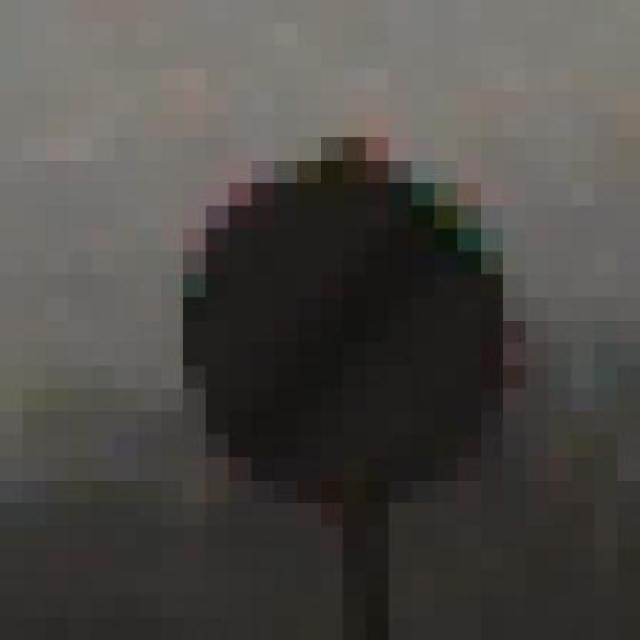End of all speed and passing limits: (137, 114, 549, 526)
